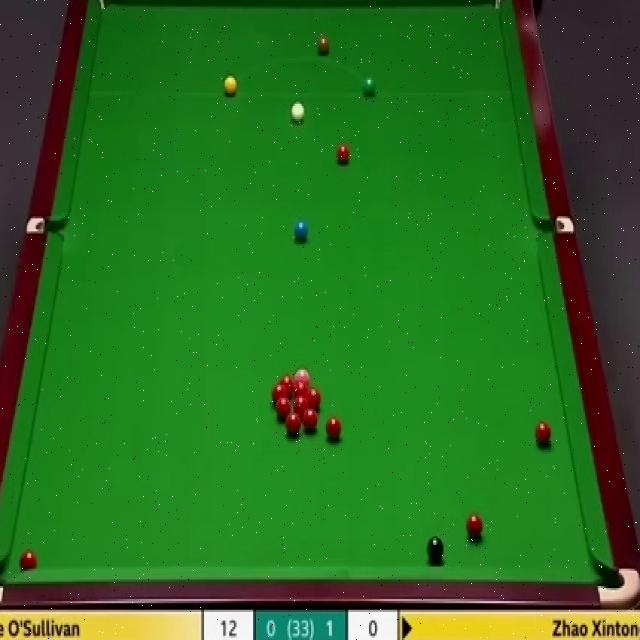black-ball: (426, 536, 444, 562)
blue-ball: (293, 220, 309, 244)
brown-ball: (318, 37, 331, 53)
green-ball: (362, 76, 377, 96)
pink-ball: (295, 369, 311, 380)
red-ball: (466, 513, 484, 538), (302, 407, 318, 431), (18, 550, 36, 570), (536, 421, 551, 444), (327, 417, 342, 440), (275, 398, 290, 420), (337, 142, 350, 166), (308, 388, 322, 410), (286, 413, 300, 434), (280, 374, 294, 392), (270, 384, 286, 398), (296, 379, 308, 395), (294, 398, 308, 410)
white-ball: (290, 101, 306, 125)
yellow-ball: (223, 76, 237, 96)
